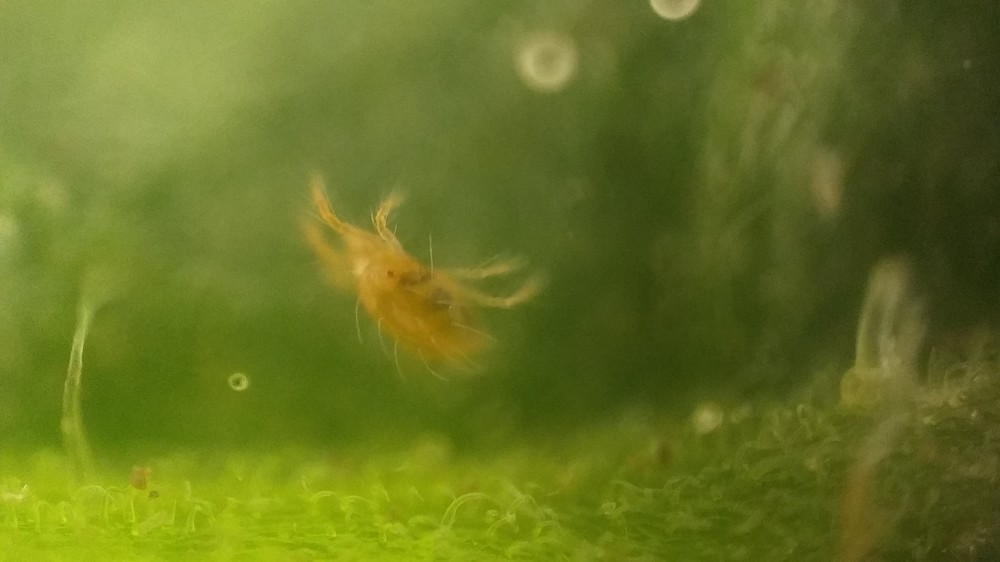Aracnido Rojo: (260, 168, 568, 403)
